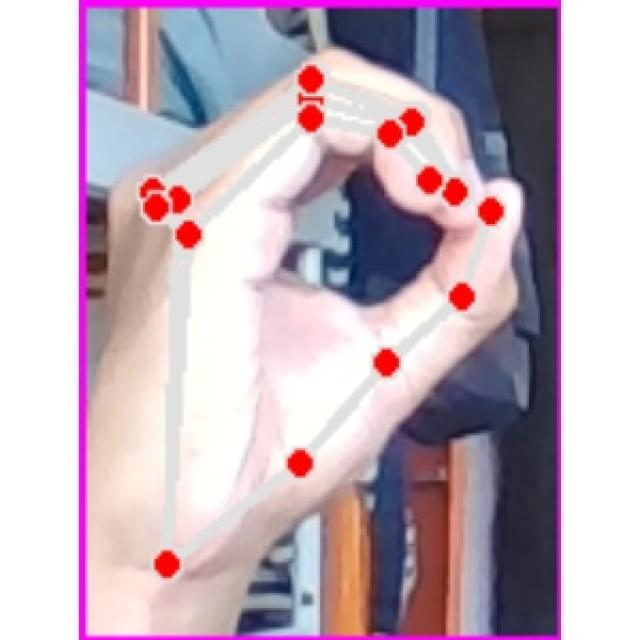O: (96, 37, 532, 605)
